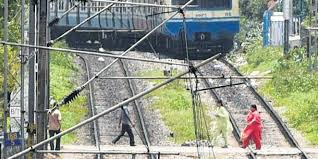crossing railway track: (242, 102, 267, 152), (48, 102, 67, 154), (211, 99, 230, 149), (117, 98, 135, 149)
